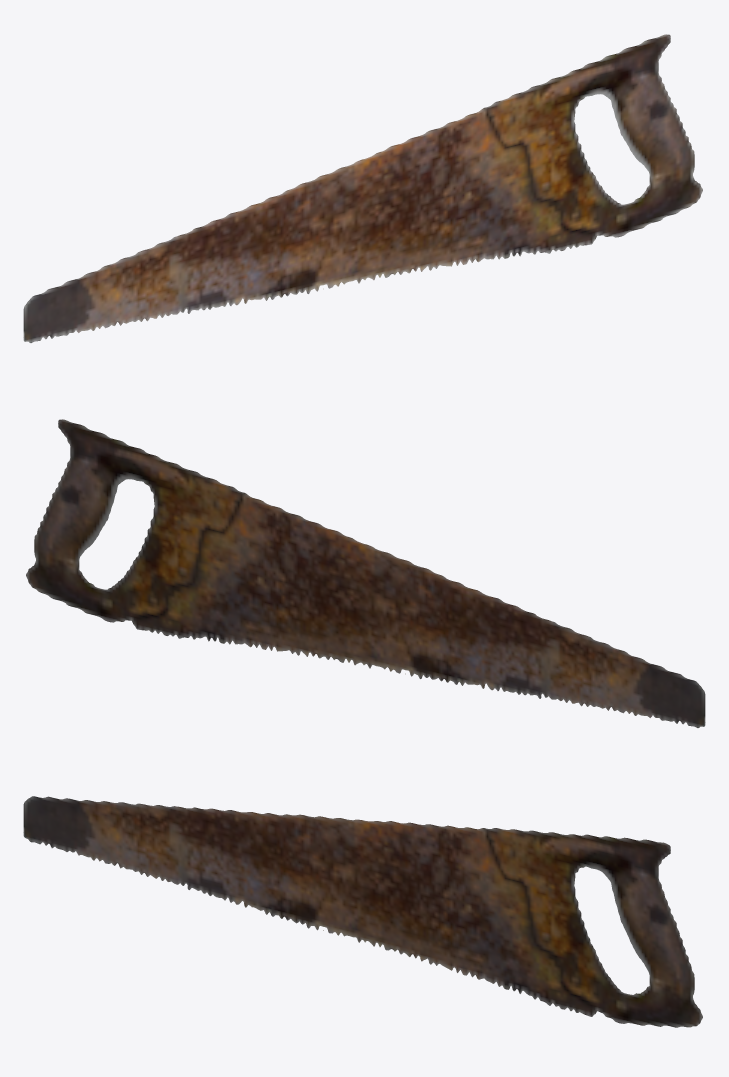
The model's file is rusty_hacksaw.FBX.
3 views of the same model, one above another, from view 1: azimuth 30°, elevation 25°; view 2: azimuth 150°, elevation 25°; view 3: azimuth 330°, elevation 25° (orthographic).
Parts seen in each view (by area): view 1: rusty_hacksaw; view 2: rusty_hacksaw; view 3: rusty_hacksaw.
Boxes of the visible parts, bbox=[...] form: rusty_hacksaw: bbox=[23, 34, 702, 342]; rusty_hacksaw: bbox=[26, 419, 705, 727]; rusty_hacksaw: bbox=[23, 796, 702, 1027].
Size of the model in its own units: 115 by 34.75 by 1.64e-05.
